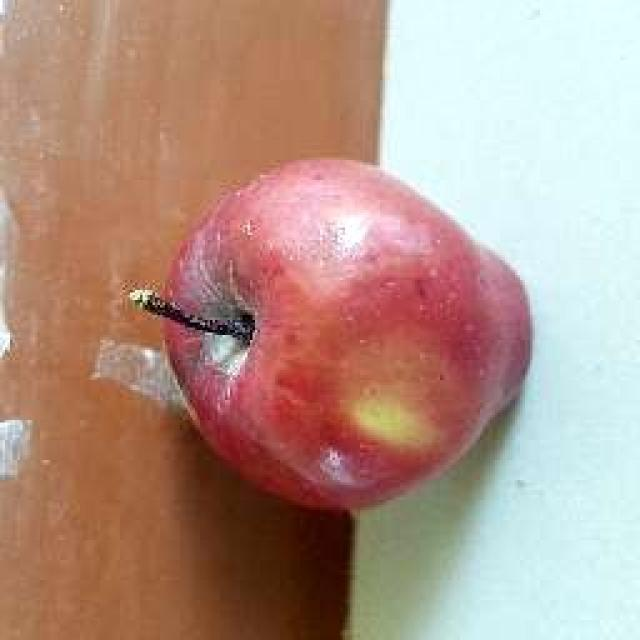Good_Apple: (130, 160, 530, 509)
